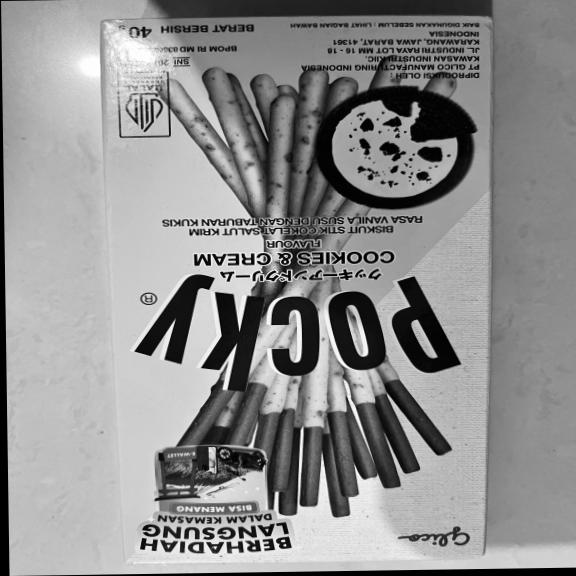Kertas: (100, 14, 489, 560)
